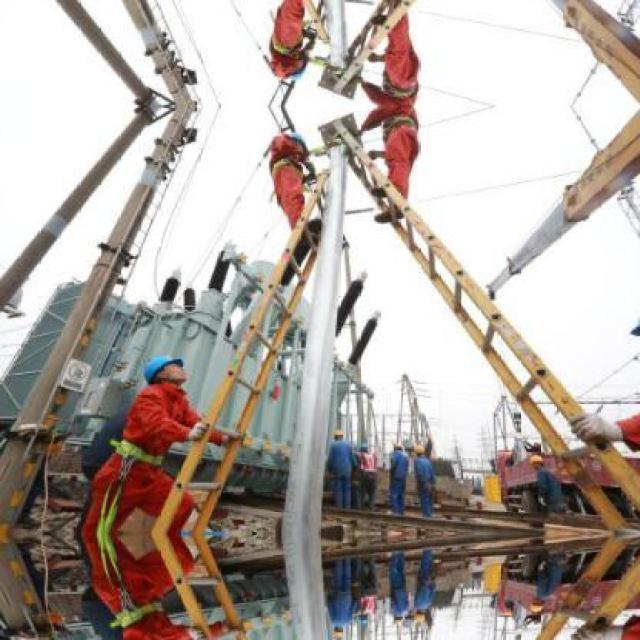helmet: (145, 345, 186, 384), (281, 128, 314, 157)
